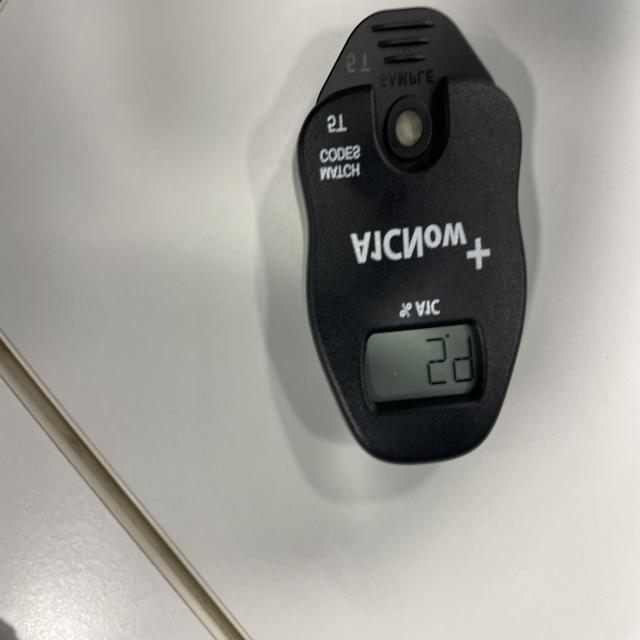hba1c: (294, 7, 532, 468)
